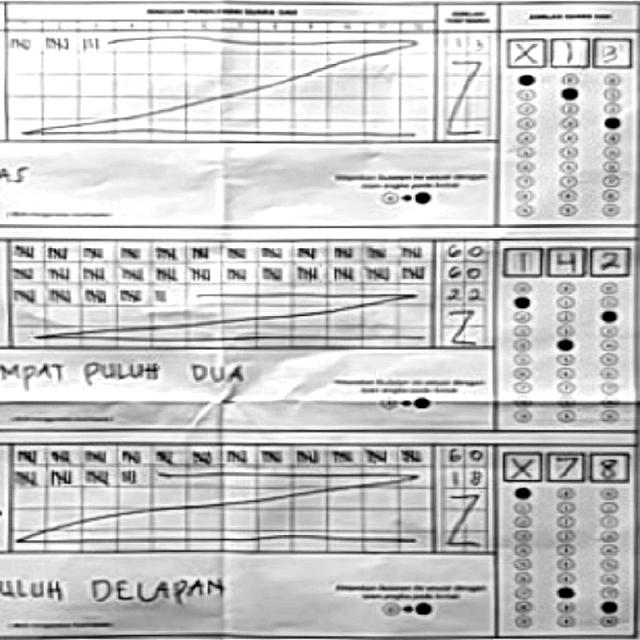Suara: (498, 240, 631, 280), (500, 446, 630, 486), (504, 31, 634, 67)
